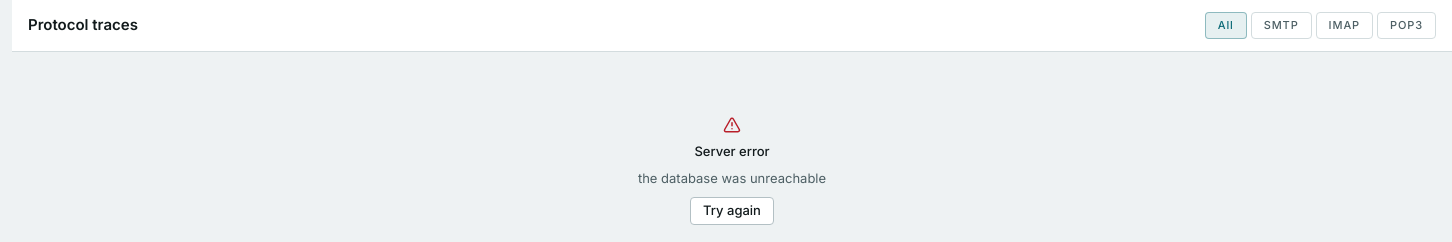
Test: states (Phase 7 Pass B) › offers a retry on a real failure, and refetches on it
Click the button "Try again" at (732, 210), box [690, 196, 774, 224]
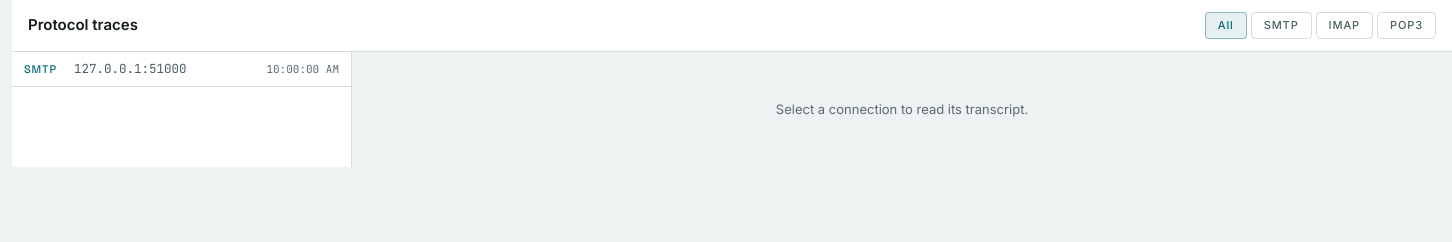
Expected: the list named "Recent connections" is shown, [12, 52, 352, 167]
